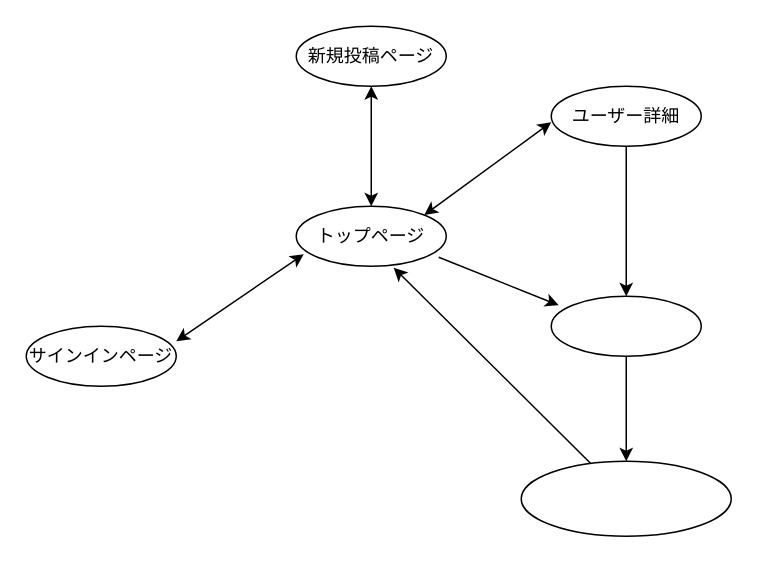
Some shapes in this 758 by 563 pixel diagram are drawn without their labels. Each missing label, with the box of its shape:
レビュー編集、削除: (520, 460, 731, 536)
レビュー詳細: (550, 295, 701, 356)
